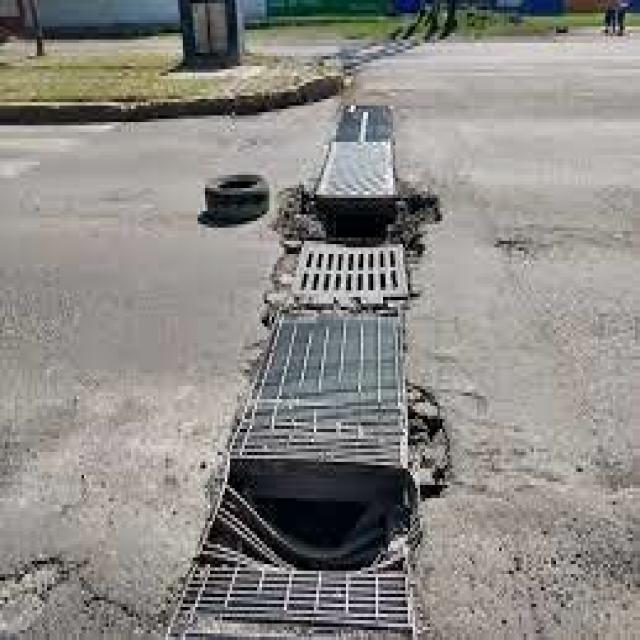Pothole: (180, 429, 509, 617), (267, 181, 487, 287)
